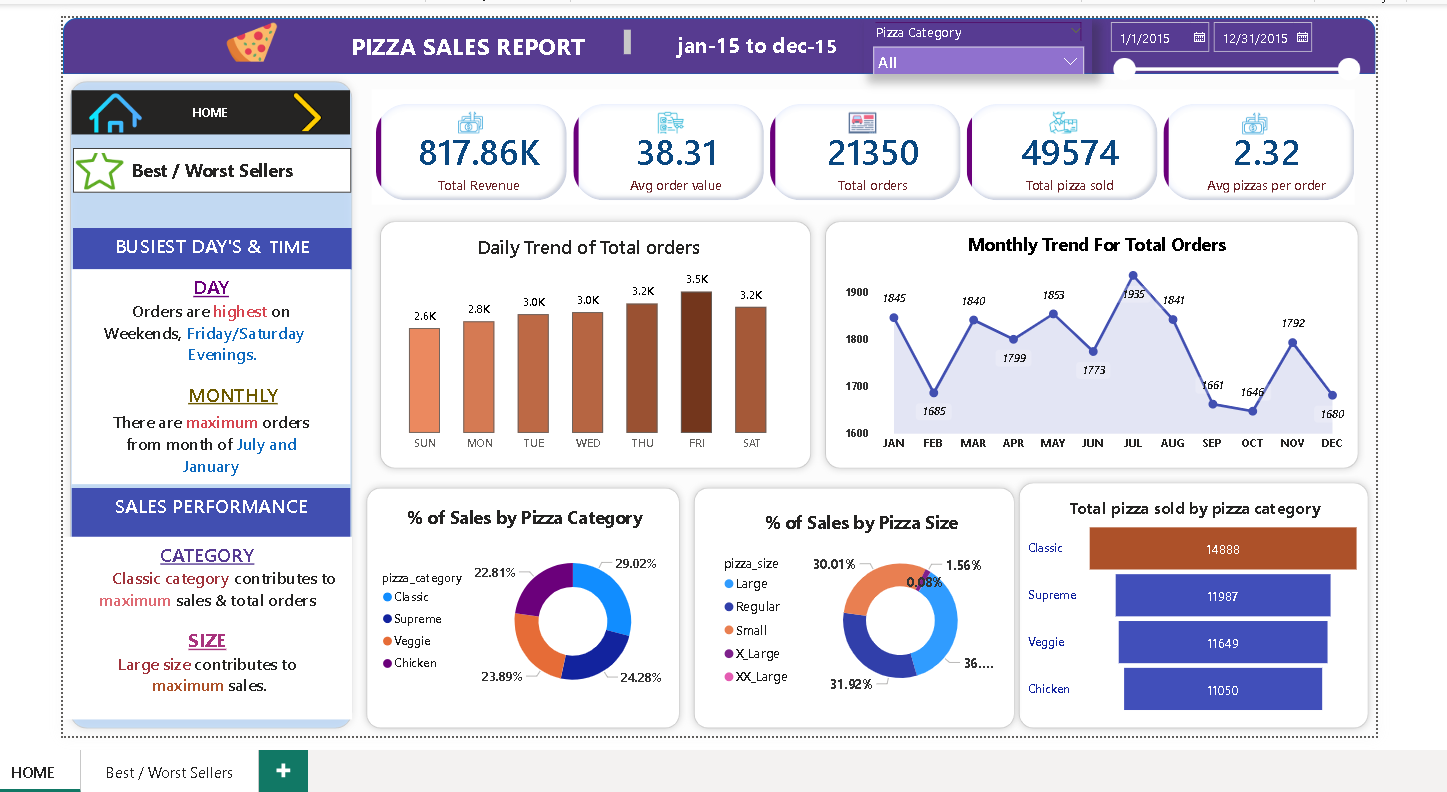

The page's visual inventory and layout, read from the dashboard file:
{"tool":"powerbi","page":{"name":"HOME ","canvas":[1500,820],"ordinal":0},"visuals":[{"type":"shape","box":[0,64.3,338.6,755.7],"z":0},{"type":"cardVisual","fields":{"Data":["pizza_sales.Total_Revenue","pizza_sales.Avg_order_value","pizza_sales.Total_orders","pizza_sales.Total_pizza_sold","pizza_sales.Avg pizzas per order"]},"box":[353,82,1123,132],"z":1000},{"type":"shape","box":[0,0,1500,64.3],"z":2000},{"type":"textbox","box":[278.6,8.6,375.7,41.4],"z":3000},{"type":"textbox","box":[691.4,8.6,204.3,55.7],"z":4000},{"type":"image","box":[171.4,4.3,88.6,45.7],"z":5000},{"type":"shape","box":[862.9,224.3,625.7,298.6],"z":6000},{"type":"areaChart","title":"Monthly Trend For Total Orders","fields":{"Y":["pizza_sales.Total orders"],"Category":["pizza_sales.order Month"]},"box":[888.6,244.3,585.7,260],"z":7000},{"type":"shape","box":[1084.3,522.9,415.7,297.1],"z":8000},{"type":"shape","box":[338.6,528.6,374.3,291.4],"z":9000},{"type":"shape","box":[354.3,224.3,508.6,298.6],"z":10000},{"type":"shape","box":[712.9,528.6,382.9,291.4],"z":11000},{"type":"donutChart","title":"% of Sales by Pizza Category","fields":{"Category":["pizza_sales.pizza_category"],"Y":["pizza_sales.Total orders"]},"box":[360,555,335,240],"z":12000},{"type":"donutChart","title":"% of Sales by Pizza Size","fields":{"Y":["pizza_sales.Total orders"],"Category":["pizza_sales.pizza_size"]},"box":[750,561.4,324.3,227.1],"z":13000},{"type":"funnel","title":"Total pizza sold by pizza category","fields":{"Category":["pizza_sales.pizza_category"],"Y":["pizza_sales.Total pizza sold"]},"box":[1098.6,547.1,390,254.3],"z":14000},{"type":"columnChart","title":"Daily Trend of Total orders","fields":{"Y":["pizza_sales.Total orders"],"Category":["pizza_sales.order Day"]},"box":[365.7,245.7,470,258.6],"z":15000},{"type":"textbox","box":[11.4,240,318.6,47.1],"z":16000},{"type":"textbox","box":[10,287.1,318.6,245.7],"z":17000},{"type":"textbox","box":[10,537.1,318.6,55.7],"z":18000},{"type":"textbox","box":[0,592.9,330,208.6],"z":19000},{"type":"slicer","fields":{"Values":["pizza_sales.pizza_category"]},"box":[916.2,0,260,63.8],"z":20000},{"type":"slicer","fields":{"Values":["pizza_sales.order_date"]},"box":[1179,0,317,73],"z":21000},{"type":"pageNavigator","box":[10,82.5,318.8,50],"z":22000},{"type":"pageNavigator","box":[11.2,148.8,318.8,51],"z":23000},{"type":"image","box":[250,82.5,58.8,48.8],"z":24000},{"type":"image","box":[30,82.5,60,50],"z":25000},{"type":"image","box":[11.4,154.3,61.4,41.4],"z":26000},{"type":"image","box":[1110,107.5,66.2,25],"z":27000},{"type":"image","box":[416.2,107.5,100,25],"z":28000},{"type":"image","box":[667.5,107.5,55,25],"z":29000},{"type":"image","box":[896.2,107.5,36.2,25],"z":30000},{"type":"image","box":[1346.2,103.8,32.5,32.5],"z":31000}]}

Visuals, with their boxes on the page's 1500x820 design canvas (x1, y1, x2, y2). These are canvas units, not pixel positions in the 1447x792 screenshot, which may show the page scaled, cropped or inside an application window:
shape: region(0, 64, 339, 820)
cardVisual - pizza_sales.Total_Revenue x pizza_sales.Avg_order_value: region(353, 82, 1476, 214)
shape: region(0, 0, 1500, 64)
textbox: region(279, 9, 654, 50)
textbox: region(691, 9, 896, 64)
image: region(171, 4, 260, 50)
shape: region(863, 224, 1489, 523)
"Monthly Trend For Total Orders" areaChart: region(889, 244, 1474, 504)
shape: region(1084, 523, 1500, 820)
shape: region(339, 529, 713, 820)
shape: region(354, 224, 863, 523)
shape: region(713, 529, 1096, 820)
"% of Sales by Pizza Category" donutChart: region(360, 555, 695, 795)
"% of Sales by Pizza Size" donutChart: region(750, 561, 1074, 788)
"Total pizza sold by pizza category" funnel: region(1099, 547, 1489, 801)
"Daily Trend of Total orders" columnChart: region(366, 246, 836, 504)
textbox: region(11, 240, 330, 287)
textbox: region(10, 287, 329, 533)
textbox: region(10, 537, 329, 593)
textbox: region(0, 593, 330, 802)
slicer - pizza_sales.pizza_category: region(916, 0, 1176, 64)
slicer - pizza_sales.order_date: region(1179, 0, 1496, 73)
pageNavigator: region(10, 82, 329, 132)
pageNavigator: region(11, 149, 330, 200)
image: region(250, 82, 309, 131)
image: region(30, 82, 90, 132)
image: region(11, 154, 73, 196)
image: region(1110, 108, 1176, 132)
image: region(416, 108, 516, 132)
image: region(668, 108, 722, 132)
image: region(896, 108, 932, 132)
image: region(1346, 104, 1379, 136)
